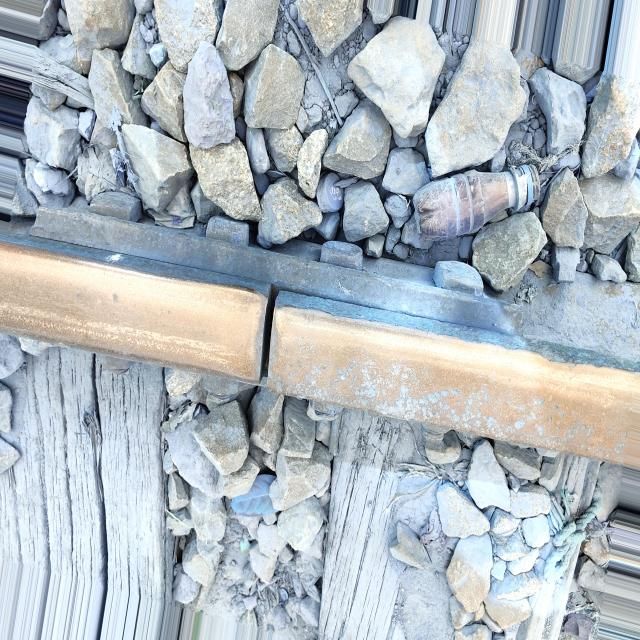crack: (211, 270, 308, 404)
